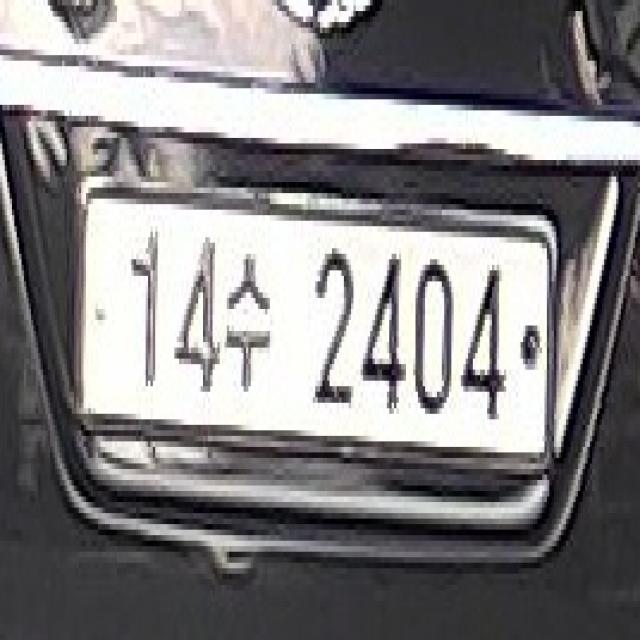0: (411, 248, 458, 431)
1: (129, 215, 165, 403)
2: (308, 237, 358, 425)
4: (461, 259, 516, 442), (172, 226, 224, 408), (360, 248, 410, 425)
license_plate: (67, 154, 559, 496)
su: (222, 237, 277, 403)
